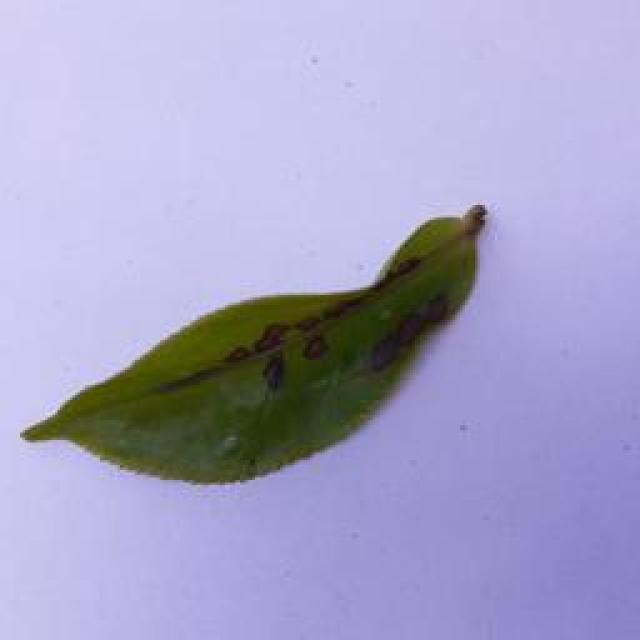Helopeltis: (22, 202, 520, 503)
